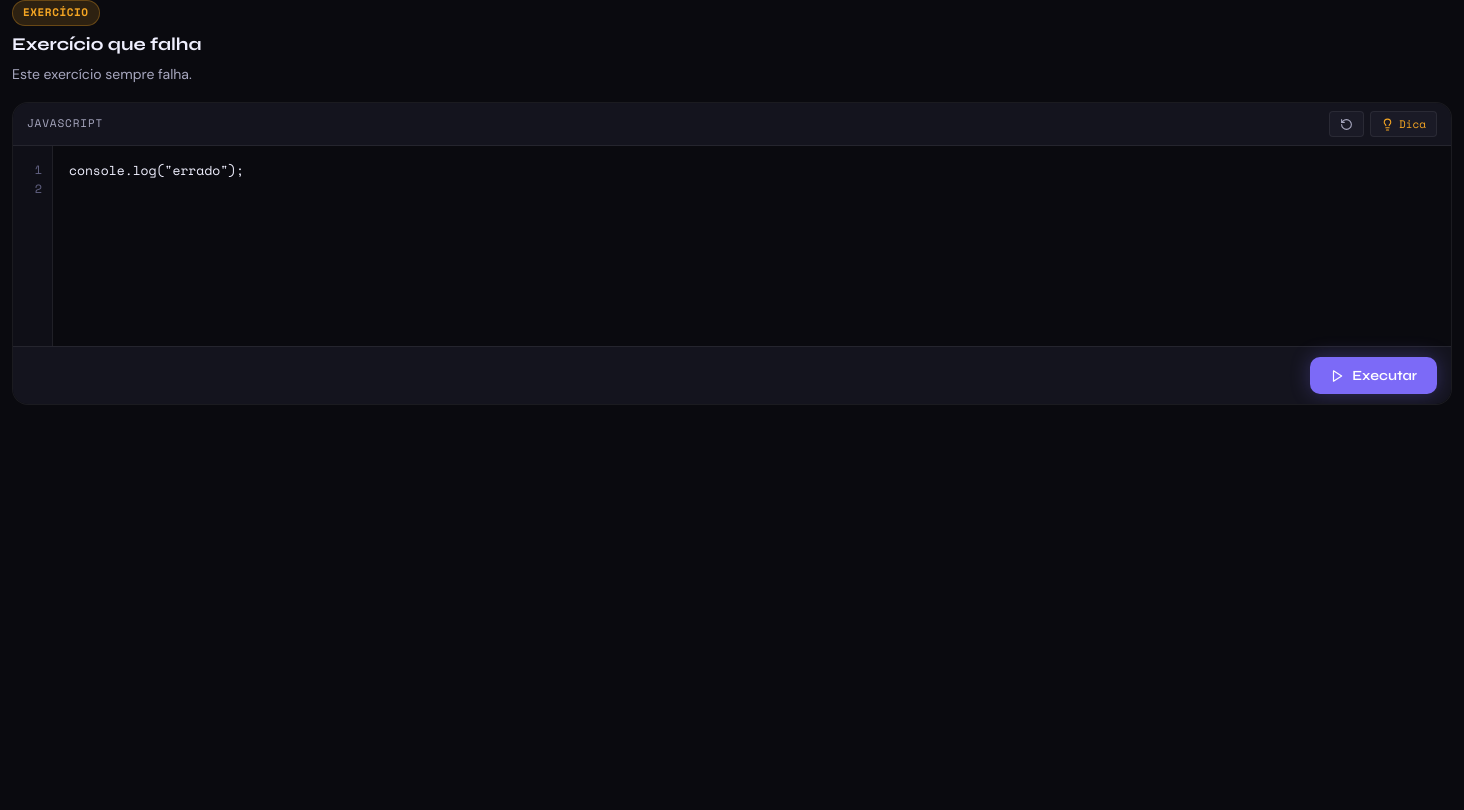
Scenario: Exercise component › mostra erro quando output não corresponde ao esperado
Click the button "Executar".
click(1374, 376)  # box [1310,357,1437,394]
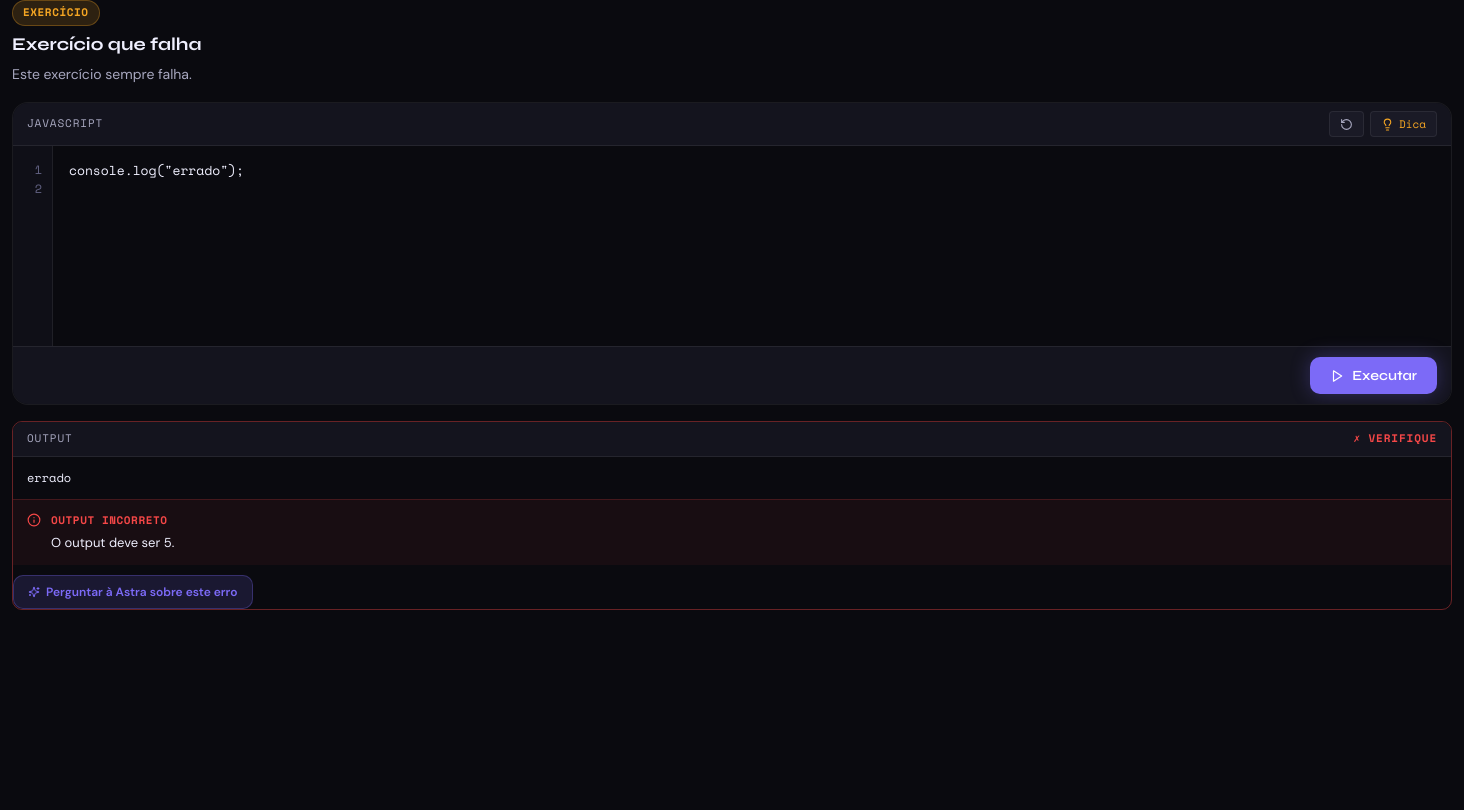
Expected: the text "✗ Verifique" is shown, [1353,430,1437,448]
